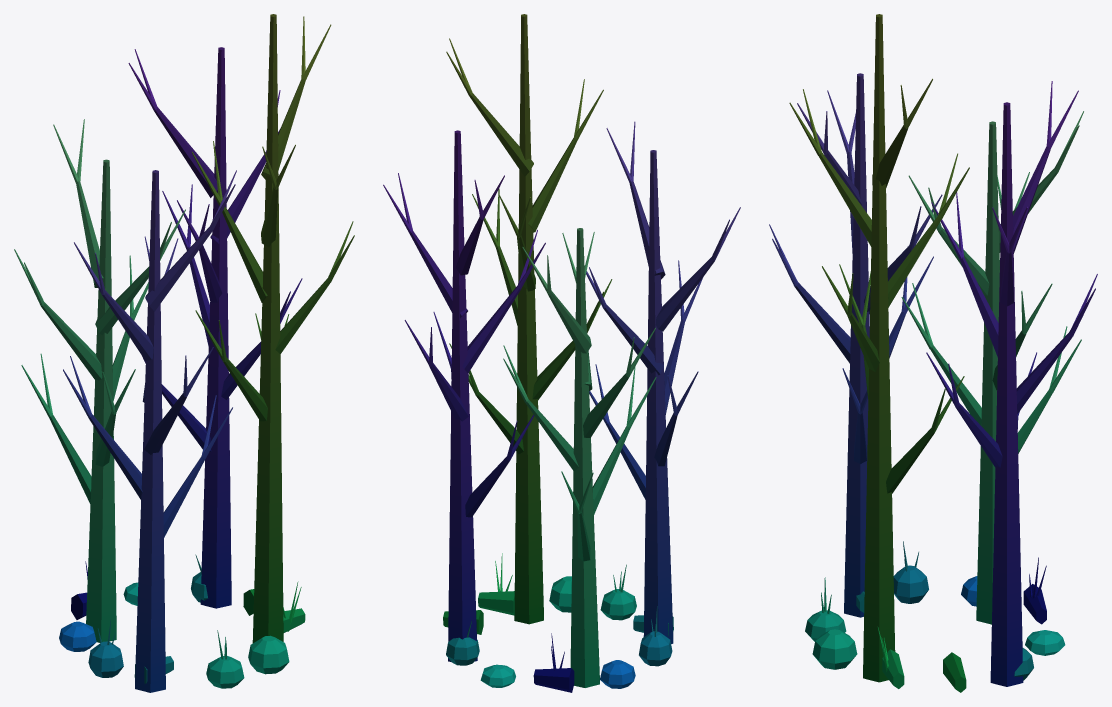
Rendered from charred_00.glb.
3 views of the same model, side by side, from view 1: azimuth 30°, elevation 25°; view 2: azimuth 150°, elevation 25°; view 3: azimuth 270°, elevation 25° (orthographic). The views are drawn at different scales.
Parts seen in each view (by area): view 1: charred_00.002; view 2: charred_00.002; view 3: charred_00.002.
Boxes of the visible parts, left/top/right/bottom form: charred_00.002: left=14, top=14, right=354, bottom=692; charred_00.002: left=383, top=14, right=740, bottom=692; charred_00.002: left=769, top=14, right=1097, bottom=692.
Size of the model in its own units: 0.94 by 1.98 by 0.8914.
